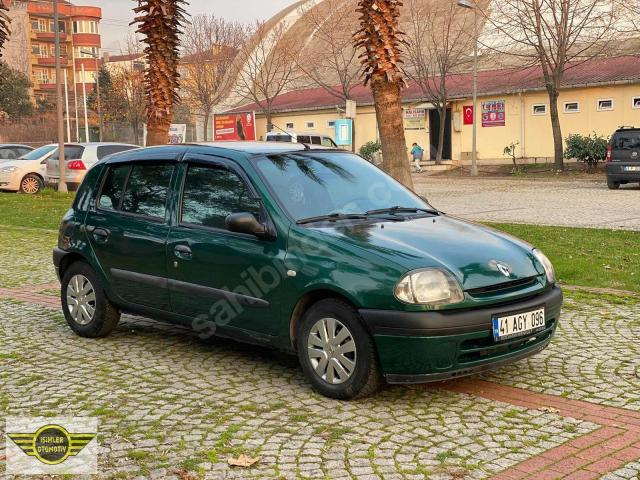plaka: (493, 307, 545, 341)
